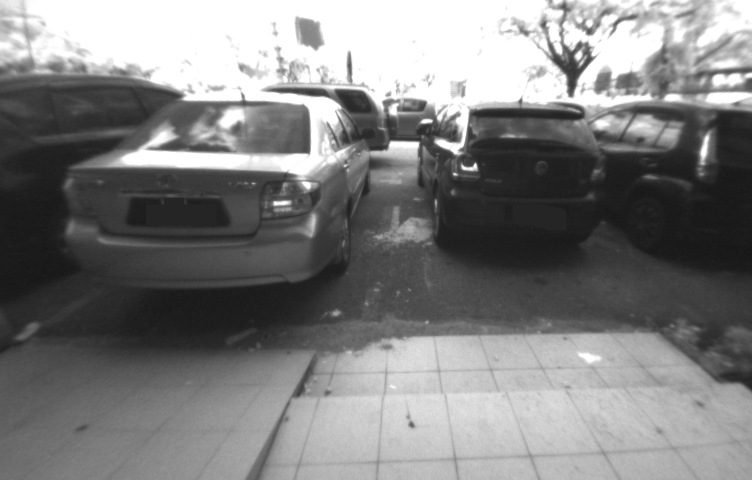down_steps: (280, 325, 751, 480)
mixed_gradient: (183, 336, 378, 478)
